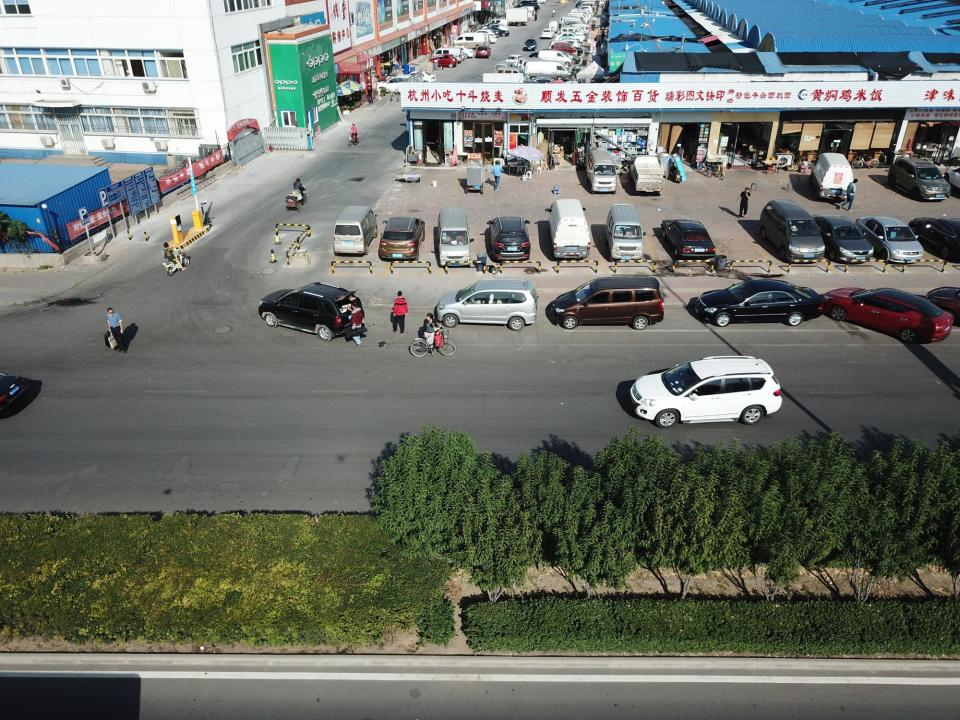car: (628, 355, 782, 429), (823, 287, 953, 343), (259, 282, 363, 342), (695, 279, 823, 327), (551, 277, 664, 330), (856, 216, 923, 262), (812, 215, 874, 261), (887, 158, 951, 202), (660, 218, 717, 260), (907, 217, 960, 259), (379, 216, 425, 260), (486, 216, 531, 260), (375, 76, 419, 94), (403, 71, 436, 83), (428, 55, 458, 68), (445, 46, 474, 58), (466, 31, 496, 42), (555, 32, 585, 42), (481, 26, 510, 36), (476, 28, 499, 38), (475, 45, 492, 58), (483, 23, 509, 30), (523, 39, 538, 51), (504, 55, 524, 63), (540, 28, 555, 38)
truck: (630, 154, 665, 196), (496, 8, 528, 26)
van: (436, 279, 539, 332), (759, 199, 825, 262), (545, 199, 591, 258), (604, 204, 646, 262), (332, 205, 378, 255), (808, 152, 853, 202), (437, 207, 474, 266), (586, 150, 616, 194), (523, 61, 572, 79), (452, 31, 486, 50), (498, 66, 529, 82), (430, 47, 462, 61), (539, 50, 572, 62), (552, 43, 578, 54), (549, 39, 575, 48), (484, 19, 509, 28), (494, 62, 516, 72), (561, 27, 585, 36), (548, 20, 560, 34), (560, 38, 578, 45)
